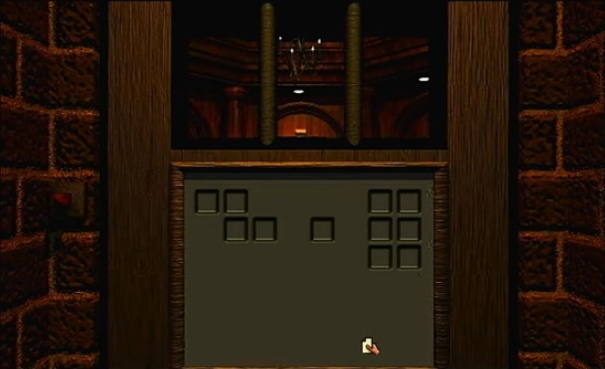Keep: (359, 333, 382, 356)
